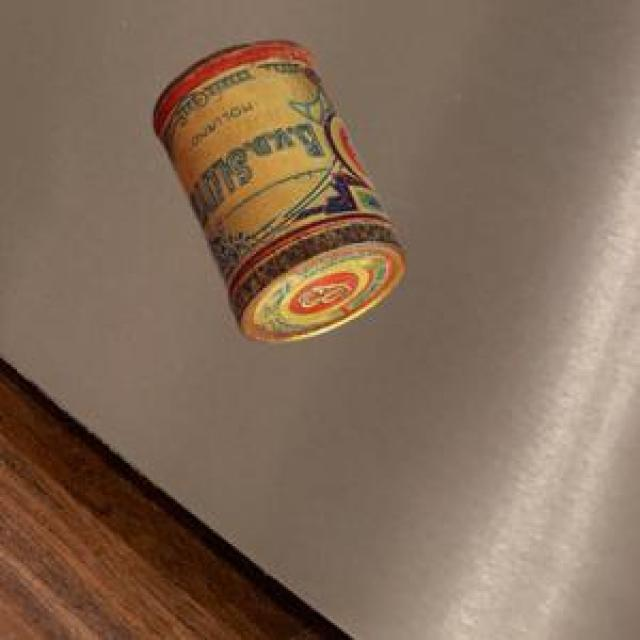Can: (150, 37, 404, 340)
